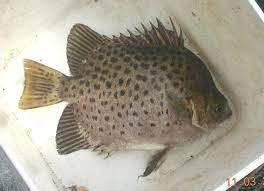Scat Fish: (16, 16, 232, 179)
